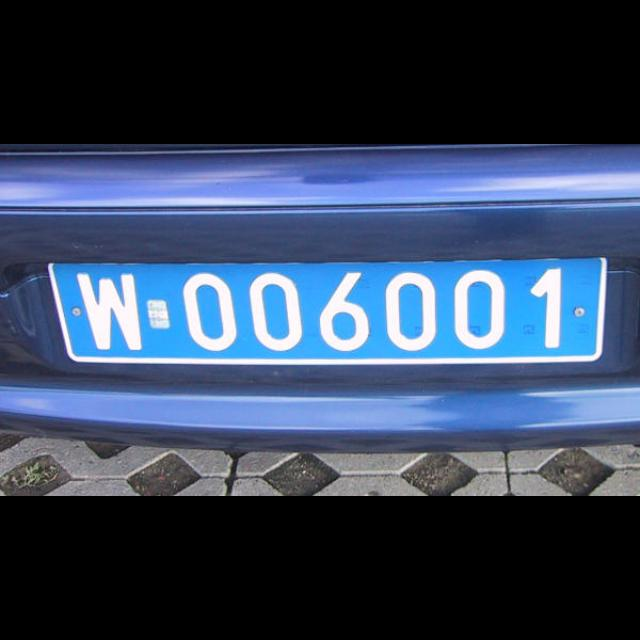pl_license_plate: (48, 258, 604, 362)
